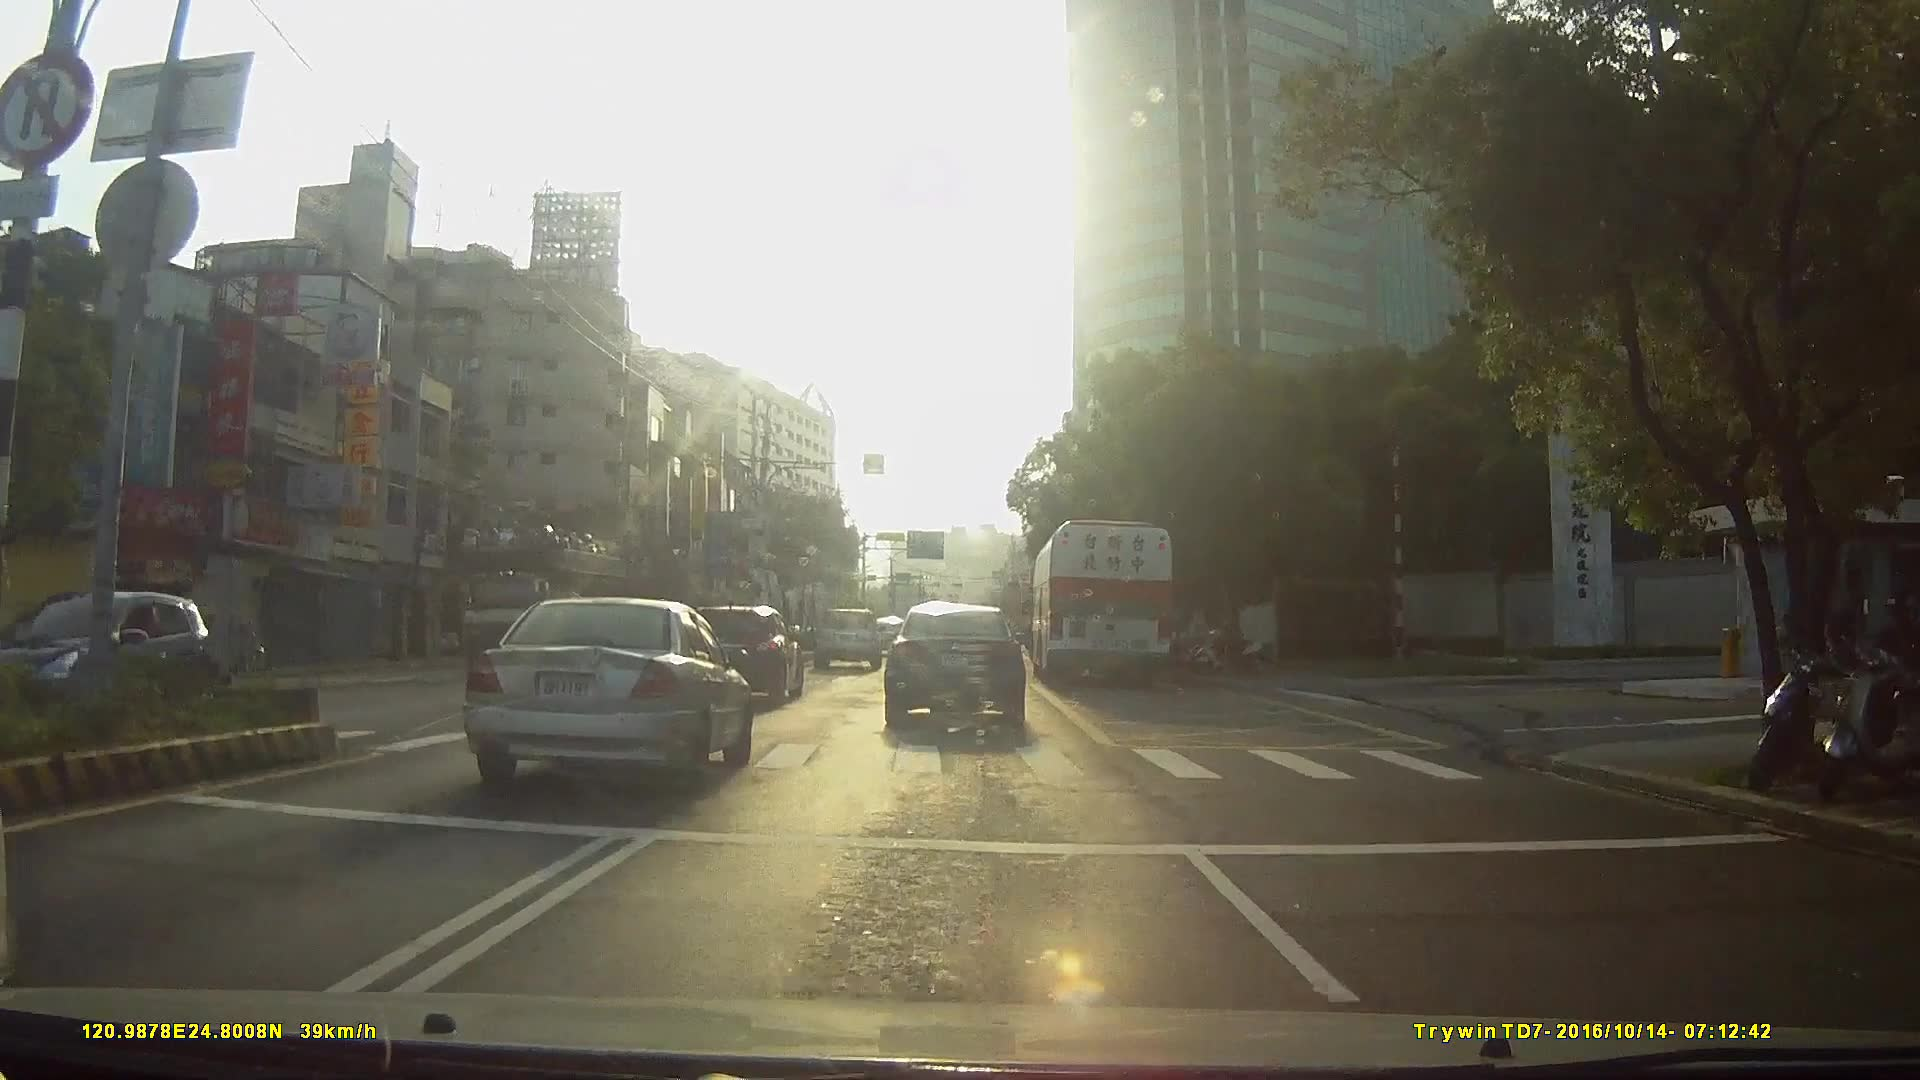vehicle: (452, 596, 752, 796), (448, 516, 636, 682), (1029, 517, 1175, 690), (7, 589, 210, 713), (881, 600, 1025, 732), (680, 607, 802, 708), (812, 607, 882, 673)
